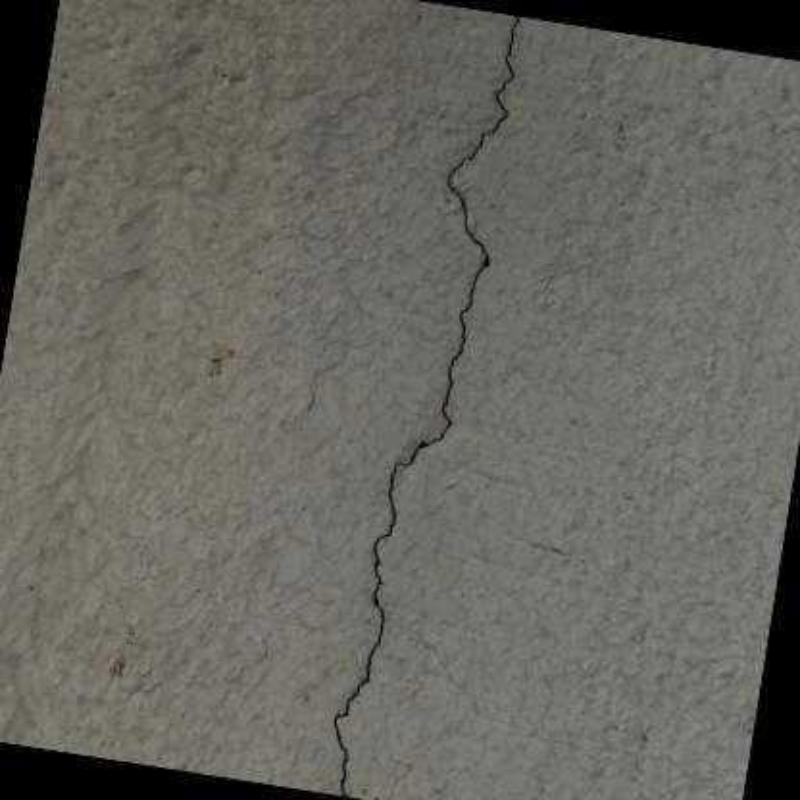pothole: (331, 13, 520, 797)
